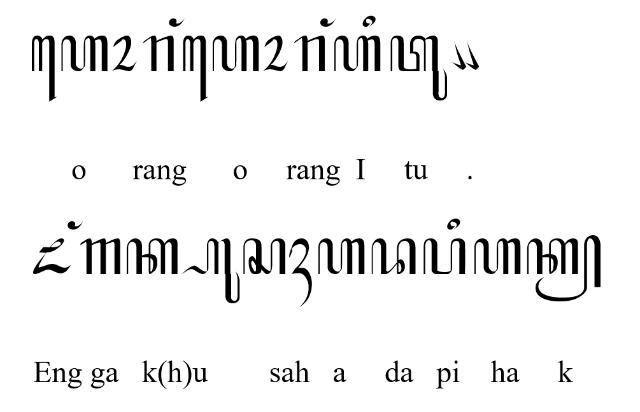-k: (526, 234, 600, 302)
E: (32, 237, 72, 274)
_h1: (288, 238, 312, 308)
_hu: (182, 238, 240, 304)
d: (372, 239, 416, 275)
e1: (182, 36, 208, 102), (32, 36, 56, 102)
g: (80, 238, 120, 274)
h: (60, 34, 108, 72), (317, 238, 365, 276), (212, 35, 260, 72), (474, 239, 522, 275), (334, 35, 381, 71)
i: (447, 217, 461, 230), (362, 15, 376, 27)
k: (125, 238, 178, 276)
kom: (465, 38, 479, 69), (452, 40, 466, 70)
ng: (169, 18, 185, 28), (320, 17, 336, 27), (68, 221, 84, 230)
o: (111, 34, 137, 72), (262, 34, 288, 72)
p: (422, 238, 466, 276)
r: (294, 36, 326, 72), (144, 34, 174, 72)
s: (244, 238, 286, 276)
tu: (390, 35, 448, 101)
